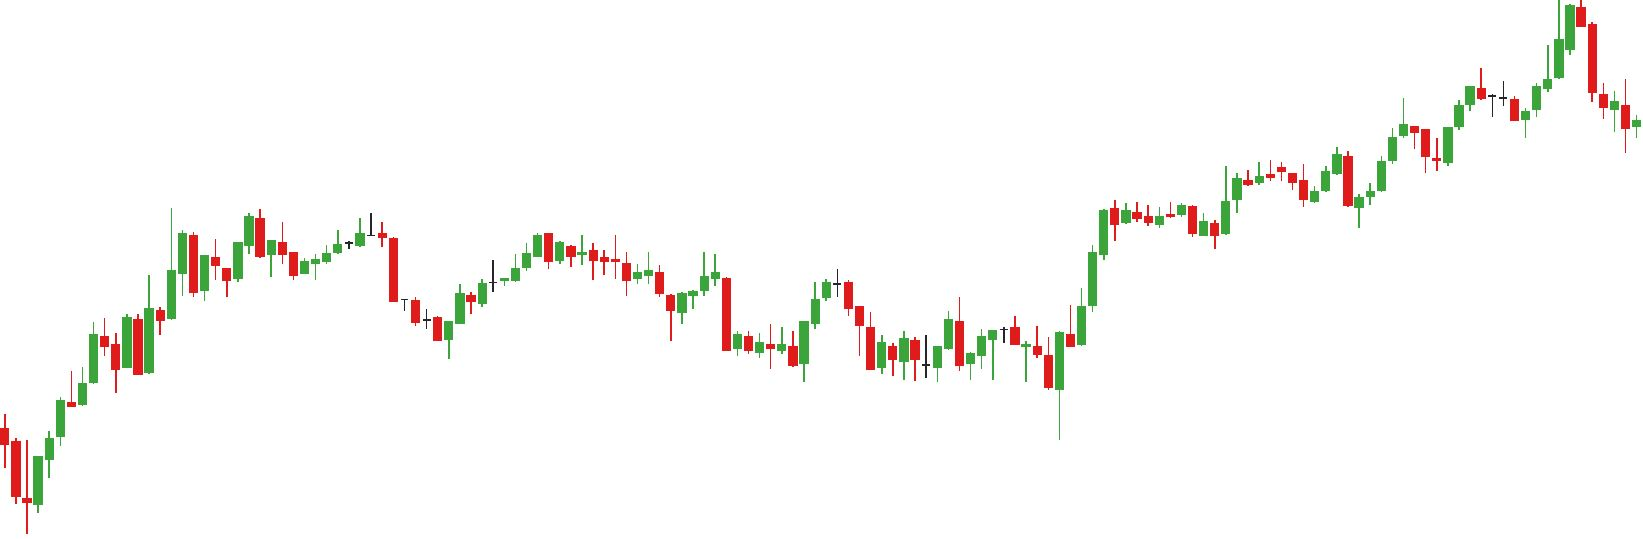buy: (1297, 163, 1365, 234)
